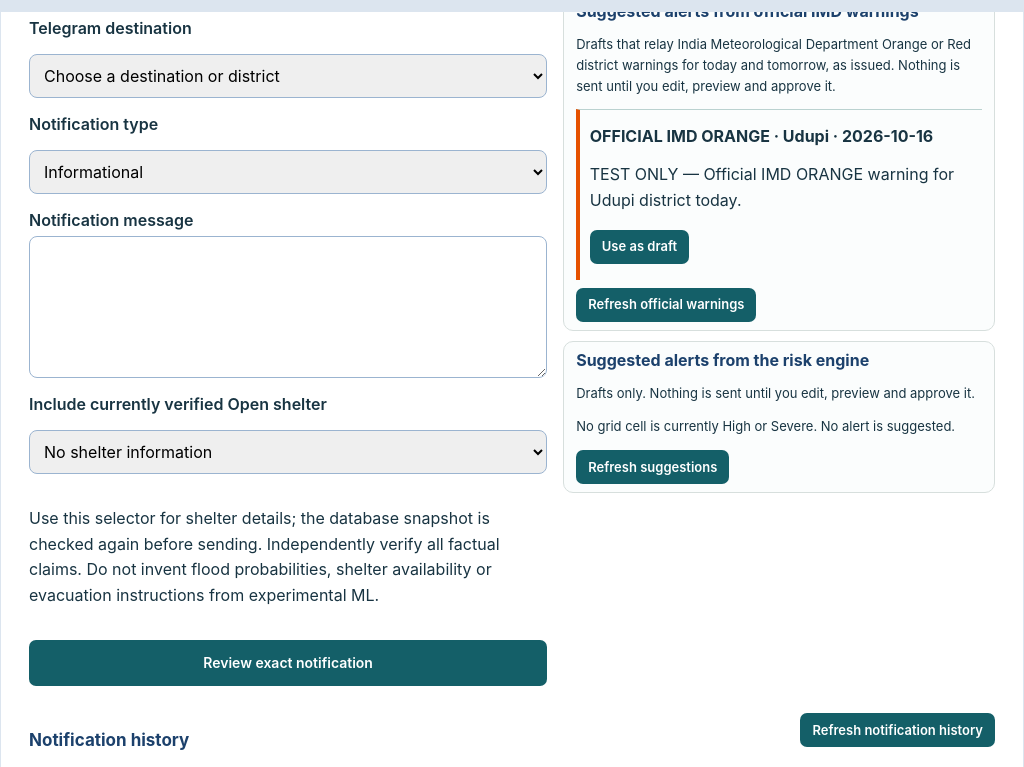
Scenario: district subscribers are a target: counts shown, empty districts disabled, an IMD suggestion preselects its district
(page scrolled)
Click the button "Use as draft".
click(639, 246)  # box [590, 230, 689, 264]
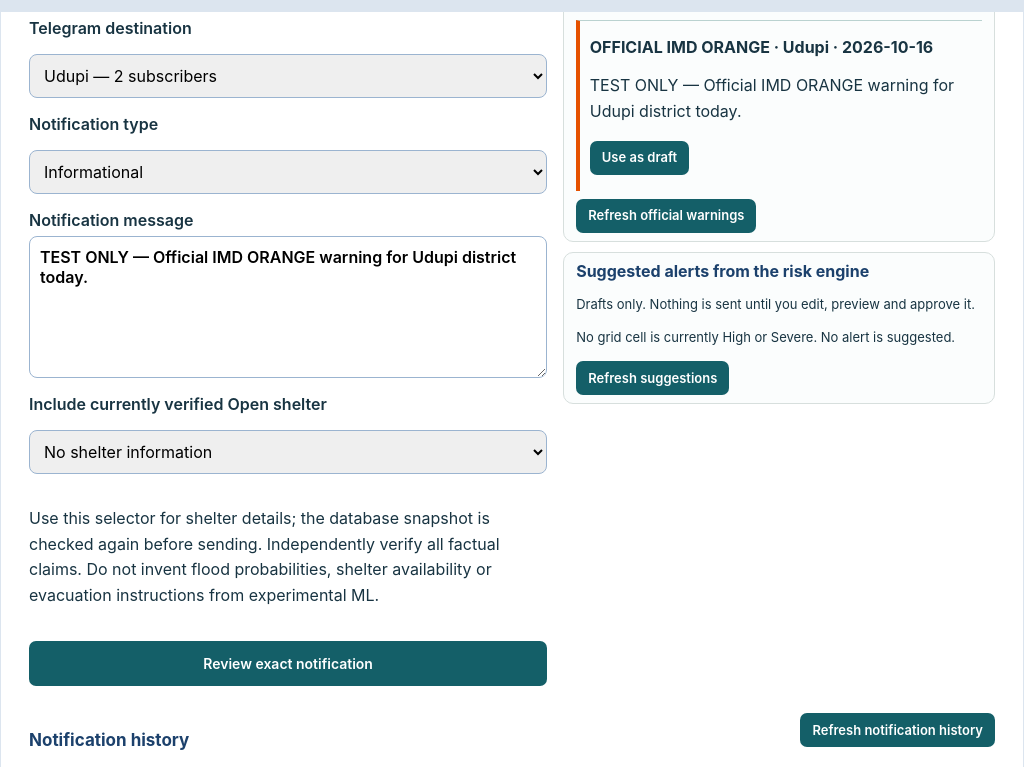
Now the dropdown labelled "Telegram destination" shows "Udupi — 2 subscribers", box [29, 54, 547, 98]
Click the button "Review exact notification".
click(288, 663)  # box [29, 640, 547, 686]
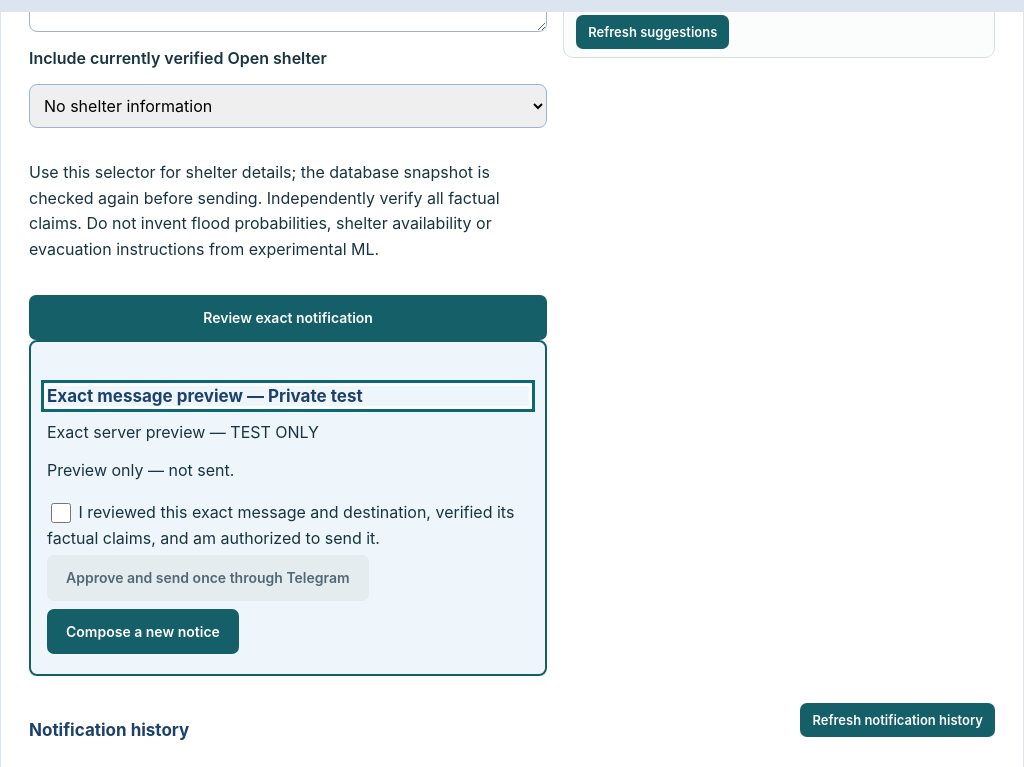
Now the heading "Exact message preview — Private test" is shown, box [47, 386, 529, 406]
